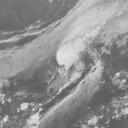cyclone: (55, 30, 100, 75)
